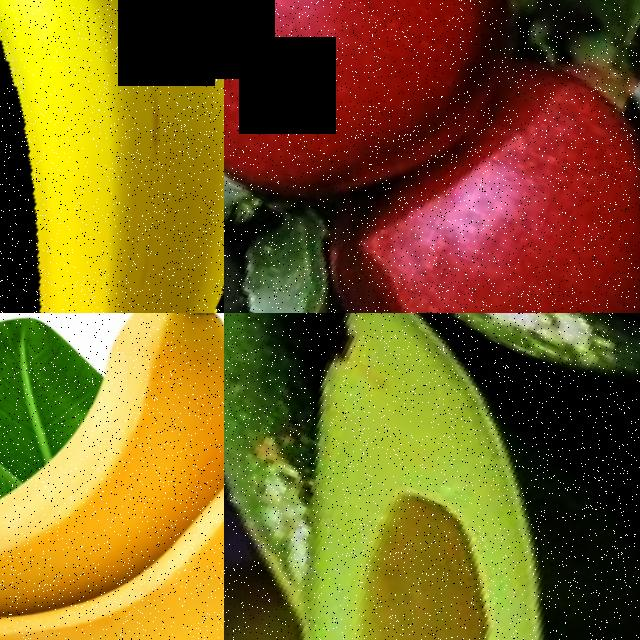apple: (224, 0, 579, 292), (344, 37, 640, 313)
avocado: (224, 313, 640, 640), (293, 313, 640, 499), (224, 313, 423, 569), (224, 502, 394, 640)
banana: (0, 313, 224, 640), (0, 0, 224, 313)
